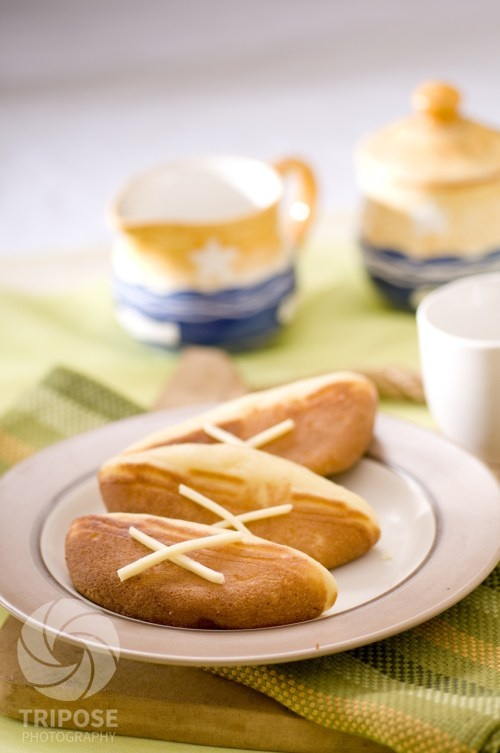pukis: (35, 503, 363, 653)
